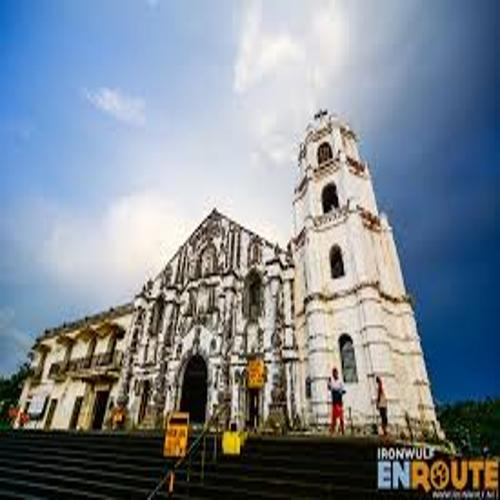Daraga Church: (127, 104, 442, 447)
